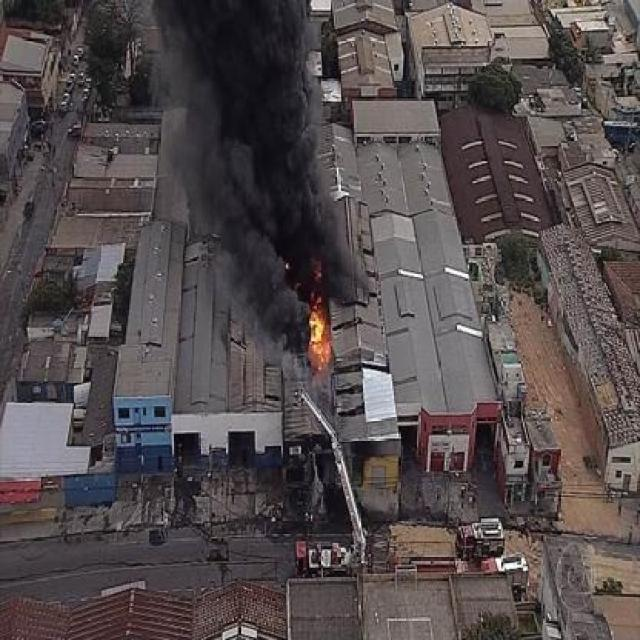Fire: (300, 274, 336, 372)
Smoke: (150, 0, 358, 272), (254, 276, 296, 346)
